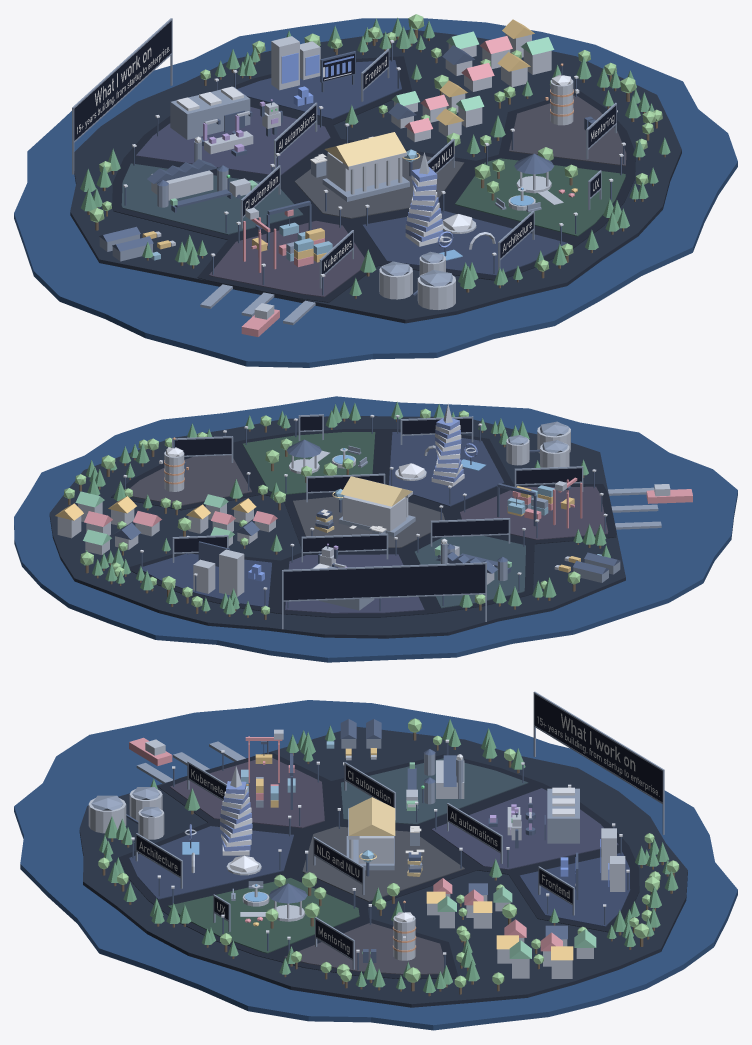
Rendered from skills-city.glb.
3 views of the same model, one above another, from view 1: azimuth 30°, elevation 25°; view 2: azimuth 150°, elevation 25°; view 3: azimuth 270°, elevation 25° (orthographic). The views are drawn at different scales.
Visible parts, largest first — view 1: ground, district-ai, district-architecture, district-ux, district-ci, district-k8s, district-nlg, district-frontend, district-mentoring, block-houses-2, block-houses-1, block-tanks (+1 smaller); view 2: ground, district-architecture, district-nlg, district-k8s, district-ux, district-ci, district-frontend, district-mentoring, district-ai, block-houses-2, block-houses-1, block-tanks (+2 smaller); view 3: ground, district-architecture, district-nlg, district-ai, district-ux, district-ci, district-k8s, district-frontend, district-mentoring, block-houses-2, block-tanks, block-houses-1 (+1 smaller).
Part boxes in pixels (x1,y1,x2,y2): ground: [14, 14, 737, 367]; district-ai: [123, 78, 340, 181]; district-architecture: [351, 152, 581, 280]; district-ux: [444, 143, 635, 242]; district-ci: [112, 141, 314, 239]; district-k8s: [197, 200, 378, 302]; district-nlg: [284, 123, 475, 223]; district-frontend: [232, 36, 412, 124]; district-mentoring: [498, 66, 635, 171]; block-houses-2: [431, 19, 554, 91]; block-houses-1: [378, 80, 484, 141]; block-tanks: [379, 251, 455, 309]; ground: [14, 396, 737, 662]; district-architecture: [381, 403, 513, 511]; district-nlg: [284, 473, 453, 551]; district-k8s: [451, 466, 616, 544]; district-ux: [233, 414, 383, 498]; district-ci: [405, 518, 534, 613]; district-frontend: [129, 535, 280, 613]; district-mentoring: [111, 430, 261, 510]; district-ai: [276, 533, 434, 617]; block-houses-2: [55, 491, 161, 555]; block-houses-1: [186, 494, 277, 548]; block-tanks: [506, 421, 570, 467]; ground: [14, 691, 737, 1030]; district-architecture: [119, 766, 304, 904]; district-nlg: [292, 797, 477, 907]; district-ai: [421, 783, 629, 874]; district-ux: [159, 872, 368, 958]; district-ci: [331, 739, 542, 828]; district-k8s: [158, 729, 334, 832]; district-frontend: [508, 828, 639, 932]; district-mentoring: [269, 903, 457, 979]; block-houses-2: [496, 919, 596, 978]; block-tanks: [88, 787, 164, 839]; block-houses-1: [426, 878, 512, 928].
Size of the model in its own units: 27.86 by 3.91 by 26.2.
